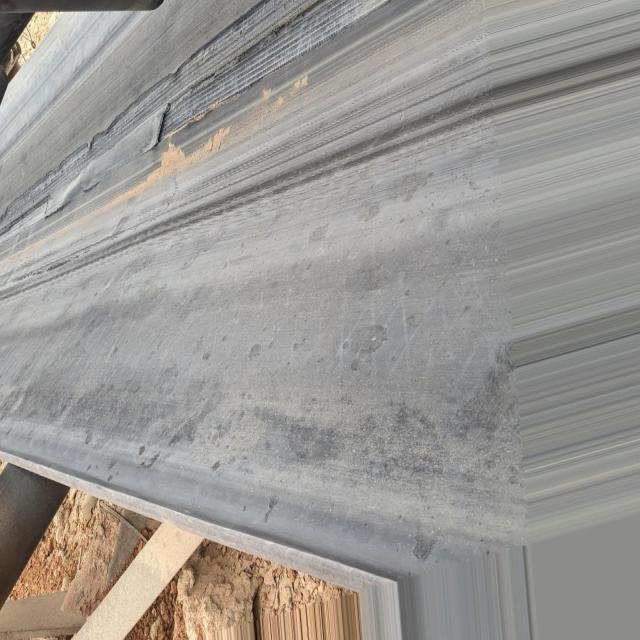Roller: (0, 467, 68, 579), (2, 17, 27, 99), (2, 1, 162, 12)
Tear: (2, 0, 390, 233)
